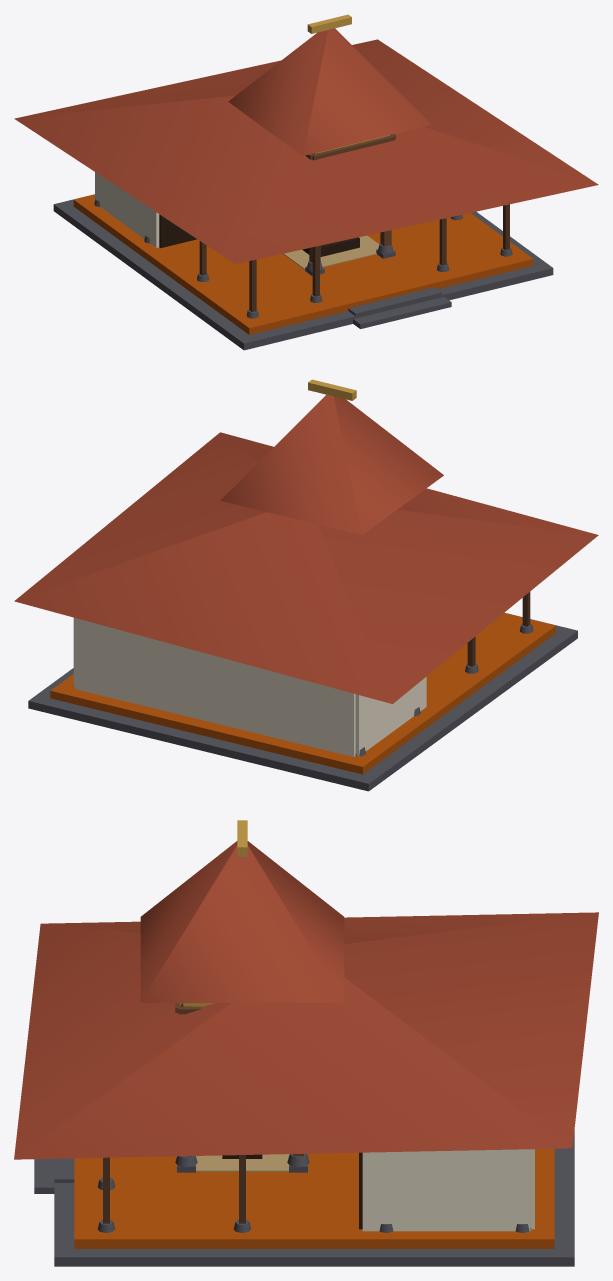
The model's file is rumah-joglo.glb.
3 views of the same model, one above another, from view 1: azimuth 30°, elevation 25°; view 2: azimuth 150°, elevation 25°; view 3: azimuth 270°, elevation 25° (orthographic). The views are drawn at different scales.
Parts seen in each view (by area): view 1: ROOF_PENANGGAP, FLOOR_SYSTEM, ROOF_BRUNJUNG, WALL_SYSTEM, SOKO_GURU, TIKAR_PENDOPO, UMPAK_STONES, TUMPANG_SARI, MEJA_RENDAH_PENDOPO; view 2: ROOF_PENANGGAP, FLOOR_SYSTEM, WALL_SYSTEM, ROOF_BRUNJUNG; view 3: ROOF_PENANGGAP, FLOOR_SYSTEM, ROOF_BRUNJUNG, WALL_SYSTEM, UMPAK_STONES, TIKAR_PENDOPO, SOKO_GURU.
Boxes of the visible parts, x1,y1,x2,y2 form: ROOF_PENANGGAP: (14,39,598,263); FLOOR_SYSTEM: (53,194,553,350); ROOF_BRUNJUNG: (228,14,431,155); WALL_SYSTEM: (95,172,196,248); SOKO_GURU: (199,134,509,311); TIKAR_PENDOPO: (283,235,379,269); UMPAK_STONES: (94,198,512,318); TUMPANG_SARI: (305,134,395,159); MEJA_RENDAH_PENDOPO: (302,237,359,256); ROOF_PENANGGAP: (14,432,598,703); FLOOR_SYSTEM: (28,612,577,791); WALL_SYSTEM: (73,617,426,756); ROOF_BRUNJUNG: (220,379,443,535); ROOF_PENANGGAP: (14,912,598,1159); FLOOR_SYSTEM: (34,1130,574,1266); ROOF_BRUNJUNG: (140,820,344,1002); WALL_SYSTEM: (359,1149,534,1231); UMPAK_STONES: (97,1153,531,1232); TIKAR_PENDOPO: (196,1154,289,1171); SOKO_GURU: (103,1003,303,1223).
Size of the model in its own units: 14.62 by 9.1 by 14.62.
